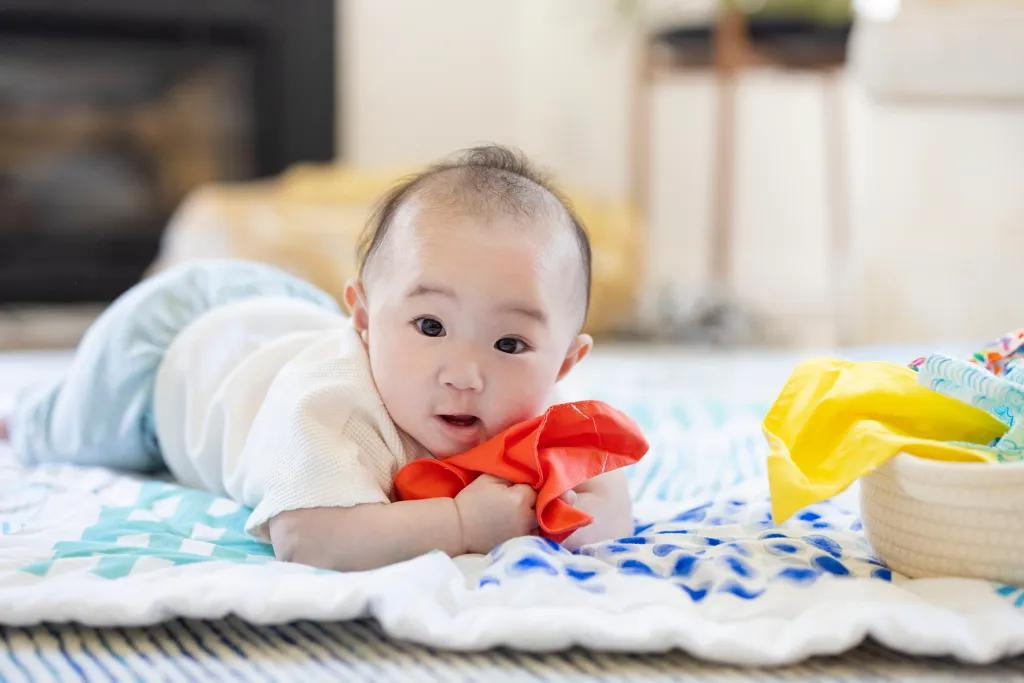child: (8, 148, 661, 565)
